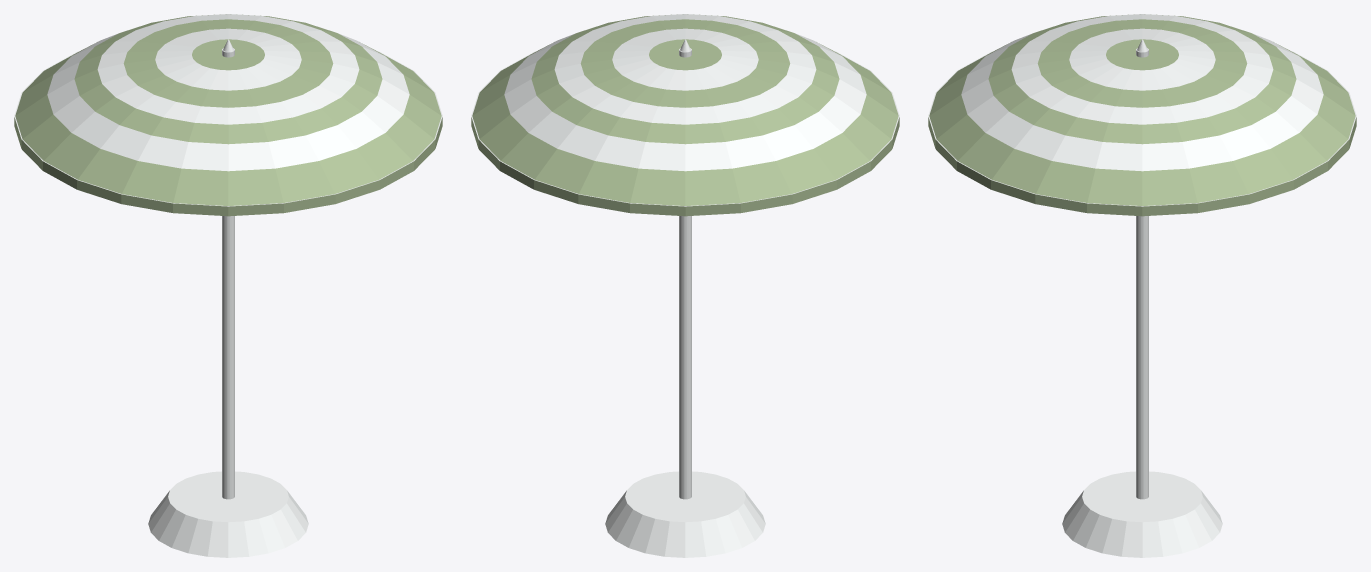
The model's file is sweethome3d-contributions-umbrella.glb.
The picture shows the model from 3 angles, left to right: view 1: azimuth 30°, elevation 25°; view 2: azimuth 150°, elevation 25°; view 3: azimuth 270°, elevation 25°; orthographic projection.
Visible parts, largest first — view 1: 12_12, 10_10, 7_7, 2_2, 3_3, 4_4, 9_9, 1_1, 6_6, 8_8, 11_11; view 2: 12_12, 10_10, 7_7, 2_2, 3_3, 4_4, 9_9, 1_1, 6_6, 8_8, 11_11; view 3: 12_12, 10_10, 7_7, 2_2, 3_3, 4_4, 9_9, 1_1, 6_6, 8_8, 11_11.
Boxes of the visible parts, x1,y1,x2,y2 form: 12_12: (15,43,441,205); 10_10: (47,33,409,171); 7_7: (148,471,308,557); 2_2: (74,14,382,144); 3_3: (97,14,359,124); 4_4: (123,19,333,107); 9_9: (155,28,301,90); 1_1: (14,117,442,216); 6_6: (222,48,234,499); 8_8: (192,39,264,70); 11_11: (14,51,442,206); 12_12: (472,43,898,205); 10_10: (504,33,866,171); 7_7: (605,471,765,557); 2_2: (531,14,839,144); 3_3: (554,14,816,124); 4_4: (580,19,790,107); 9_9: (612,28,758,90); 1_1: (471,117,899,216); 6_6: (679,48,691,499); 8_8: (649,39,721,70); 11_11: (471,51,899,206); 12_12: (929,43,1355,205); 10_10: (961,33,1323,171); 7_7: (1062,471,1222,557); 2_2: (988,14,1296,144); 3_3: (1011,14,1273,124); 4_4: (1037,19,1247,107); 9_9: (1069,28,1215,90); 1_1: (928,117,1356,216); 6_6: (1136,48,1148,499); 8_8: (1106,39,1178,70); 11_11: (928,51,1356,206).
Bounding box in the file's own units: 200 × 249 × 200.
